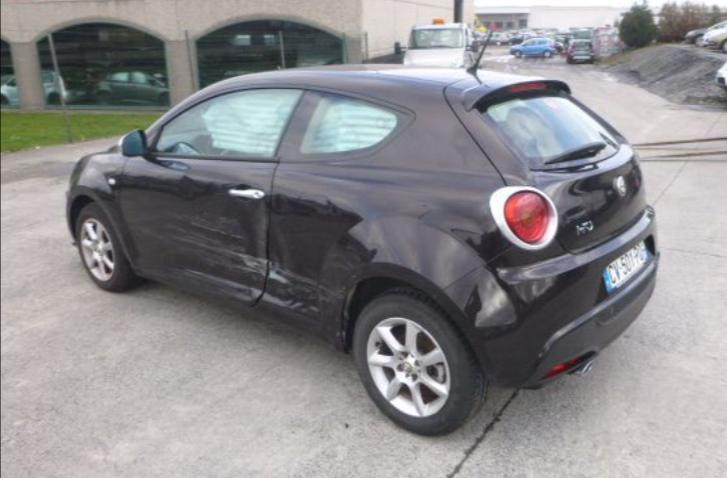Dent: (263, 190, 380, 333), (159, 173, 268, 305)
Scratch: (179, 207, 266, 282), (270, 259, 343, 304), (181, 260, 265, 297), (136, 226, 170, 245), (333, 306, 348, 337)
